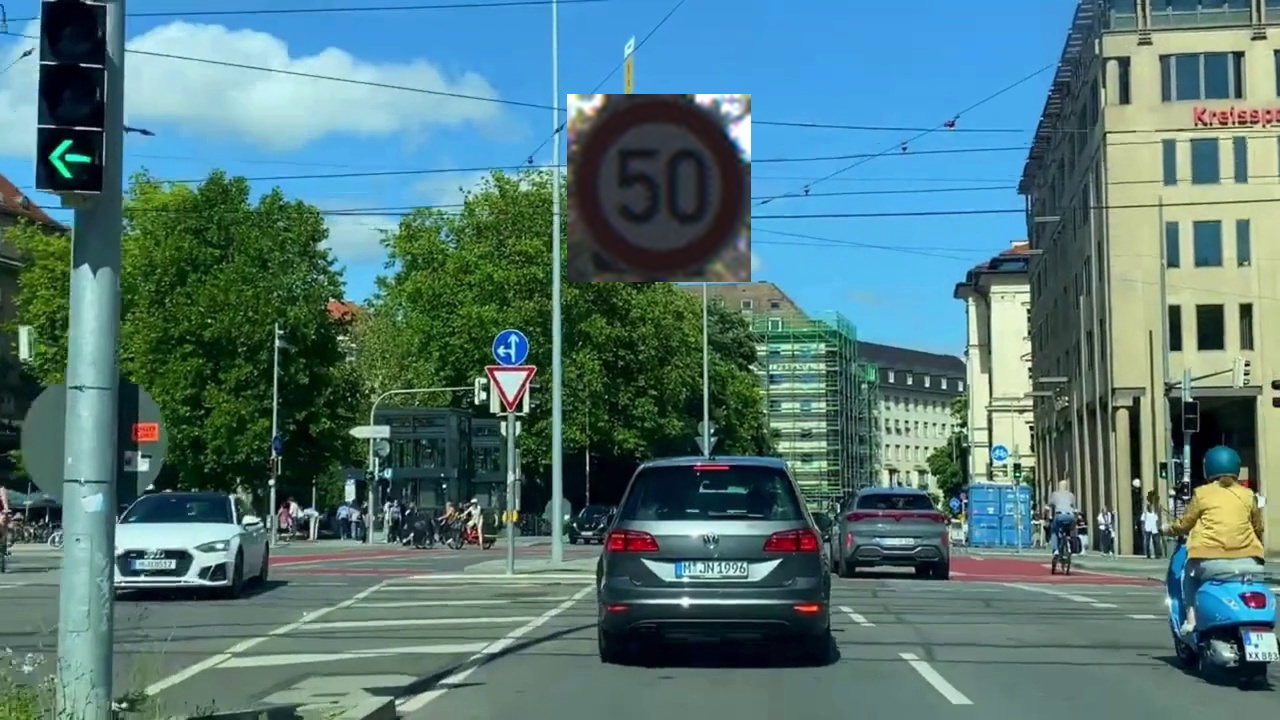Speed 50: (567, 94, 751, 282)
